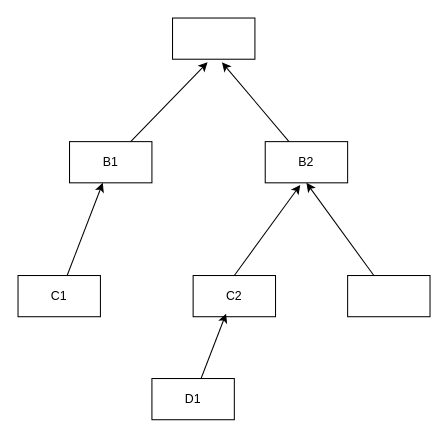
This 448x438 diagram has some shape labels left out. Each missing label, with the centre of its shape:
"A1" belongs at point 213,38.
"C3" belongs at point 388,295.
